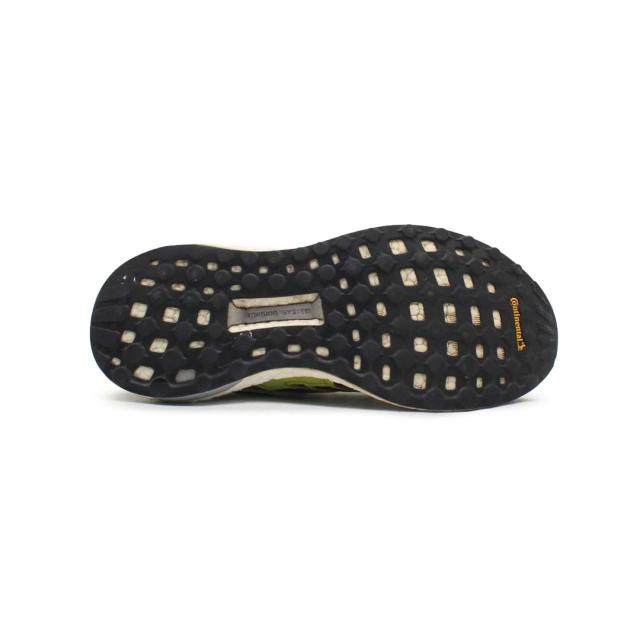midsole: (90, 226, 556, 409)
